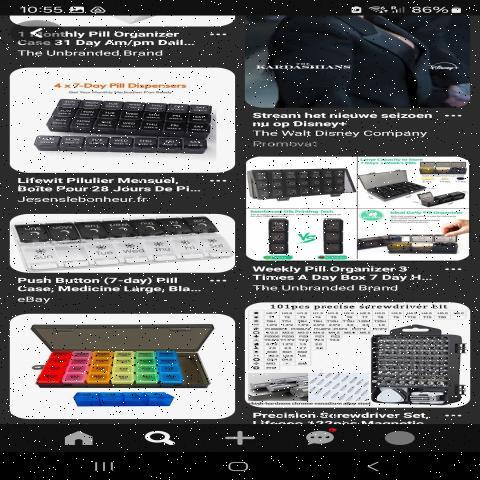PillBox: (22, 88, 218, 162), (9, 215, 227, 274), (248, 162, 349, 207), (364, 221, 462, 256), (351, 166, 431, 199)
